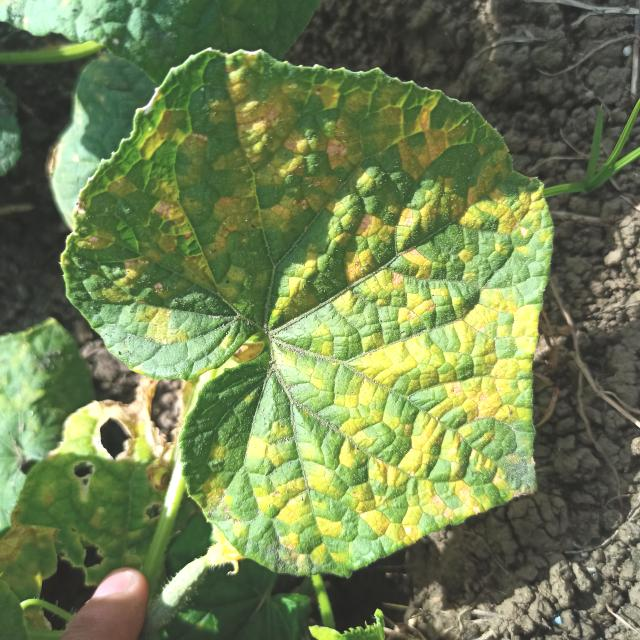disease_cucumber: (100, 61, 550, 563)
